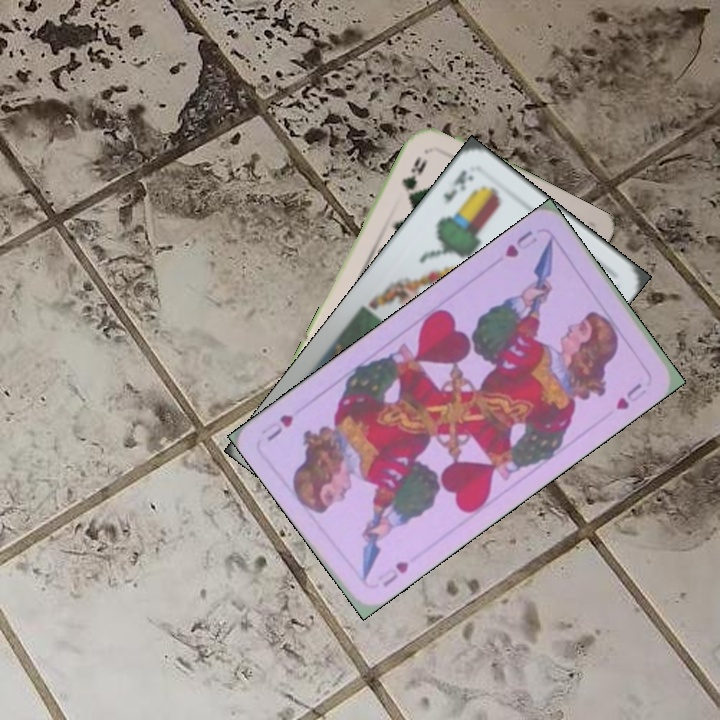EK: (438, 166, 477, 208)
G9: (398, 152, 430, 203)
HU: (501, 226, 540, 261), (373, 557, 412, 590)
